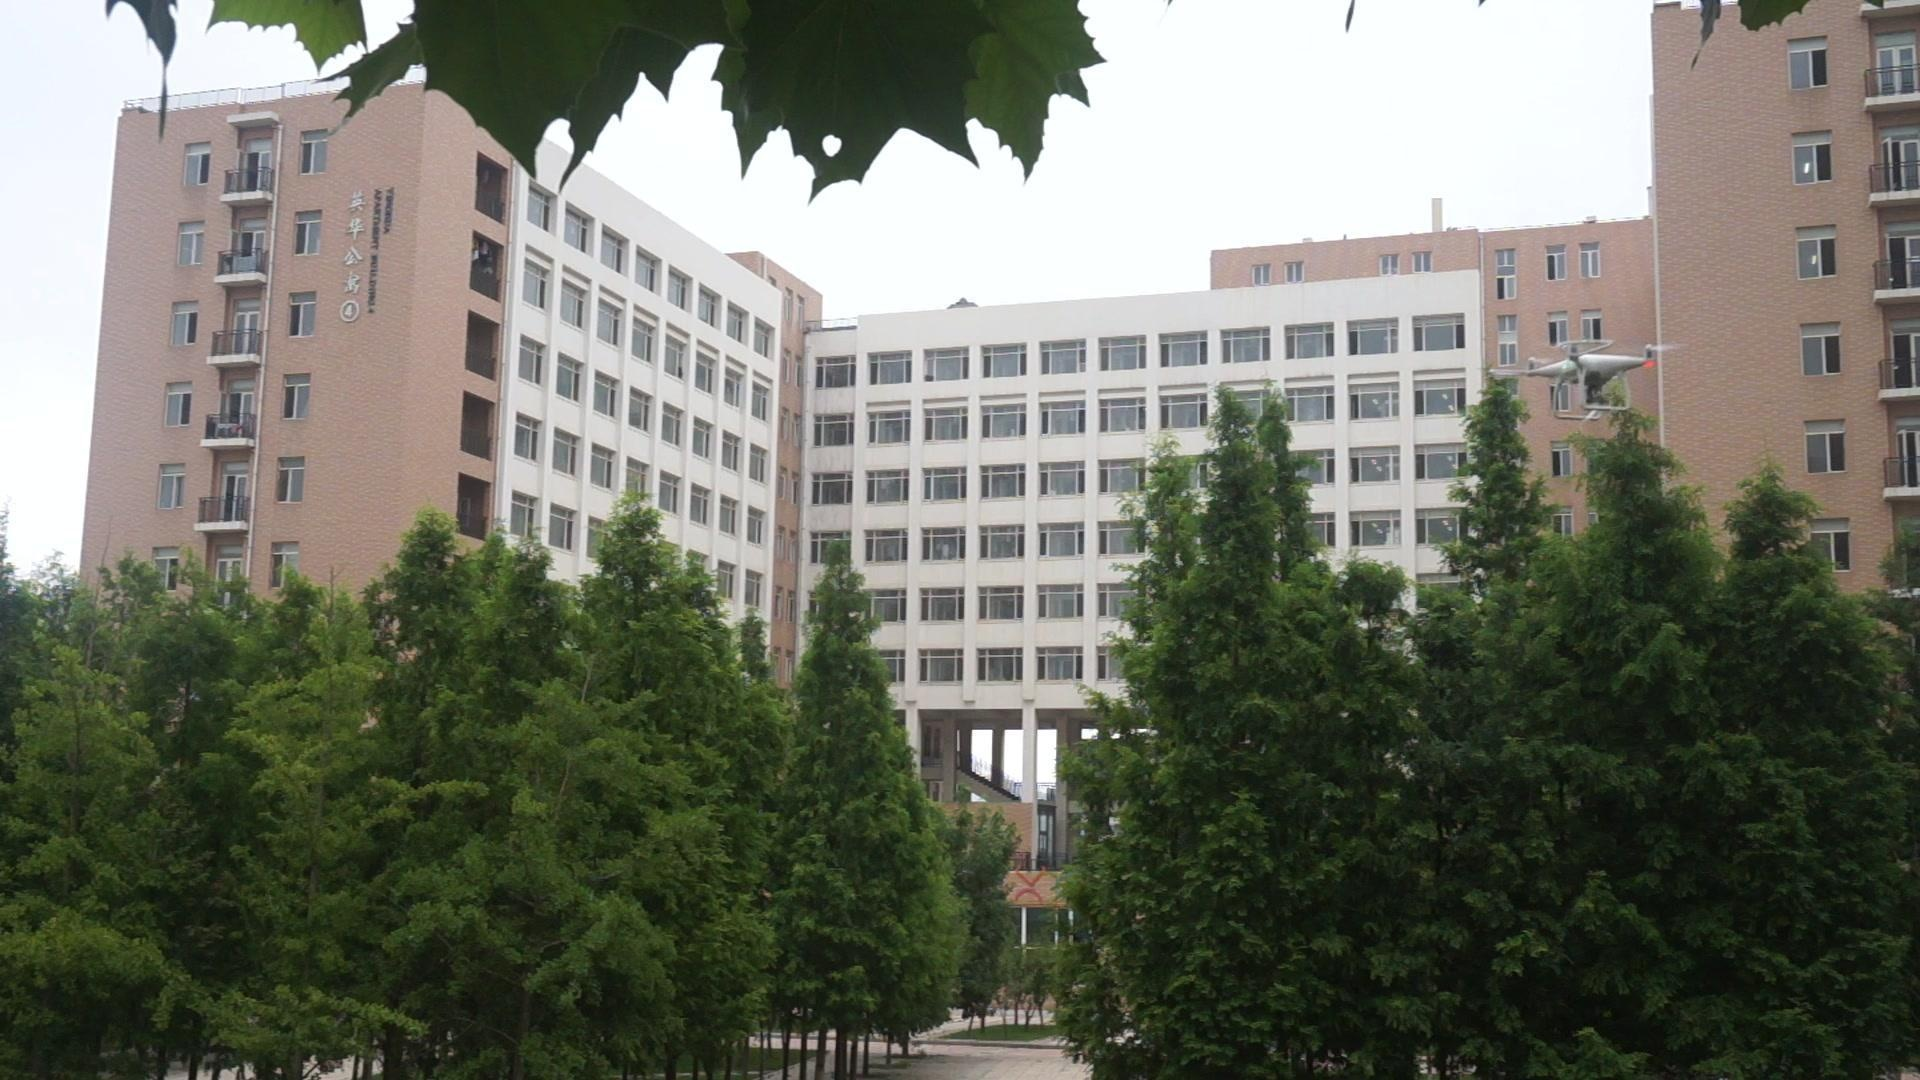UAV: (1490, 339, 1683, 422)
